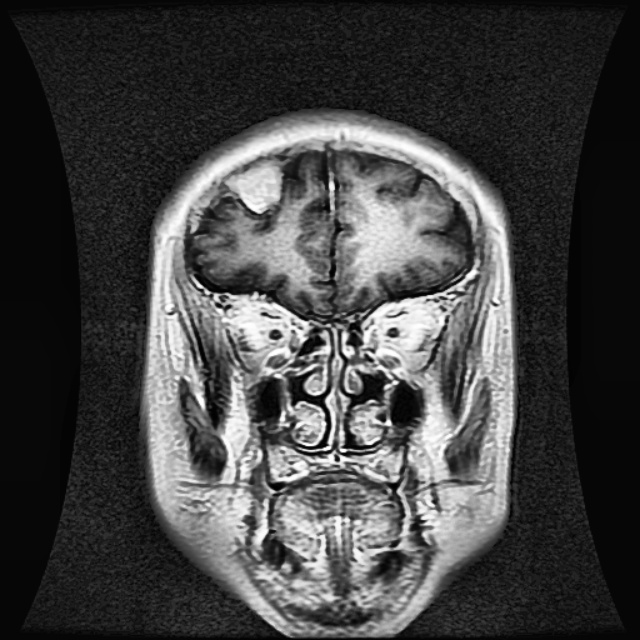Glioma: (227, 163, 282, 212)
